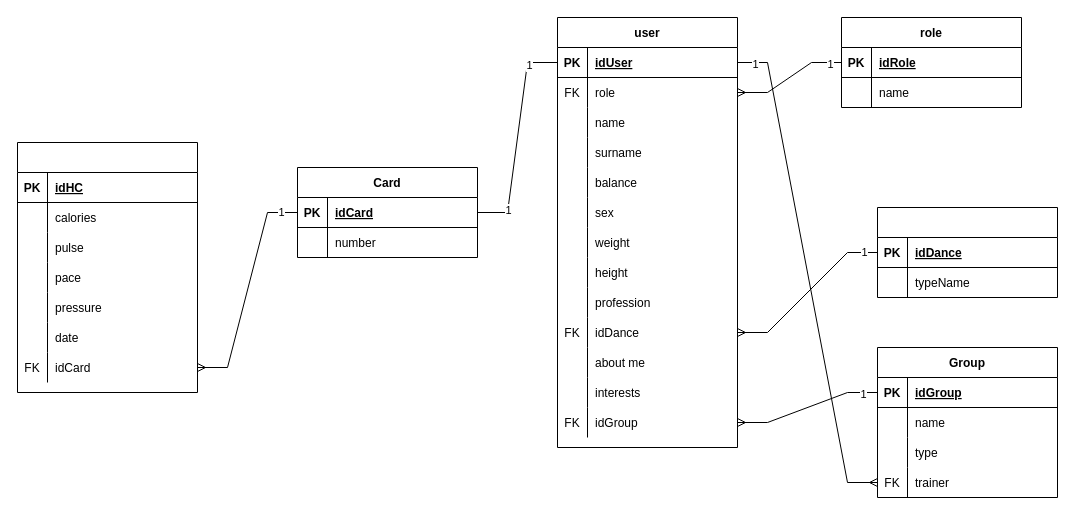
This 1075x515 diagram has some shape labels left out. Each missing label, with the box of its shape:
danceType: (876, 206, 1058, 298)
healthCondition: (16, 142, 198, 392)
